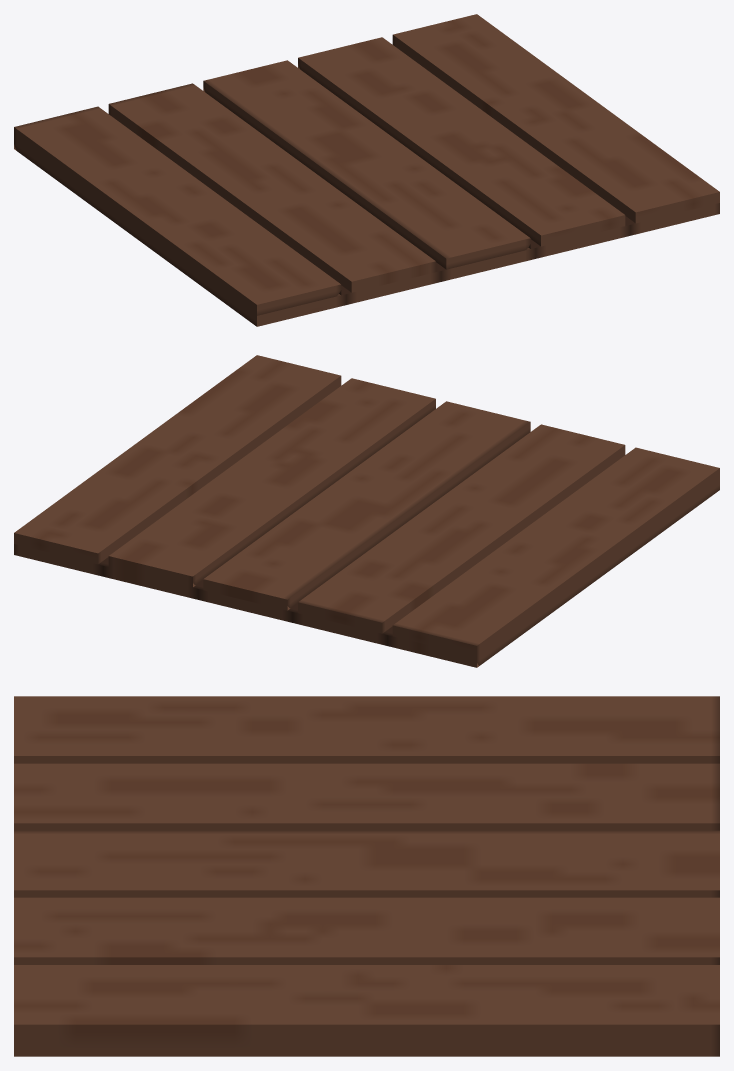
Rendered from plataforma2.obj.
3 renders of one model, top to bottom at view 1: azimuth 30°, elevation 25°; view 2: azimuth 150°, elevation 25°; view 3: azimuth 270°, elevation 25°, orthographic. The views are drawn at different scales.
Parts seen in each view (by area): view 1: Model; view 2: Model; view 3: Model.
Boxes of the visible parts, box(x1,y1,x2,y2) form: Model: box(14, 14, 719, 326); Model: box(14, 355, 719, 667); Model: box(14, 696, 719, 1056).
Size of the model in its own units: 32 by 1.45 by 29.09.
Materials: 1 (1 with a texture image).
